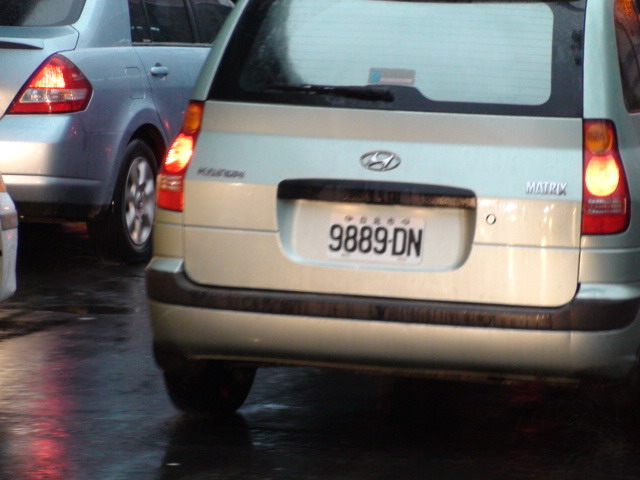plate: (324, 208, 428, 267)
